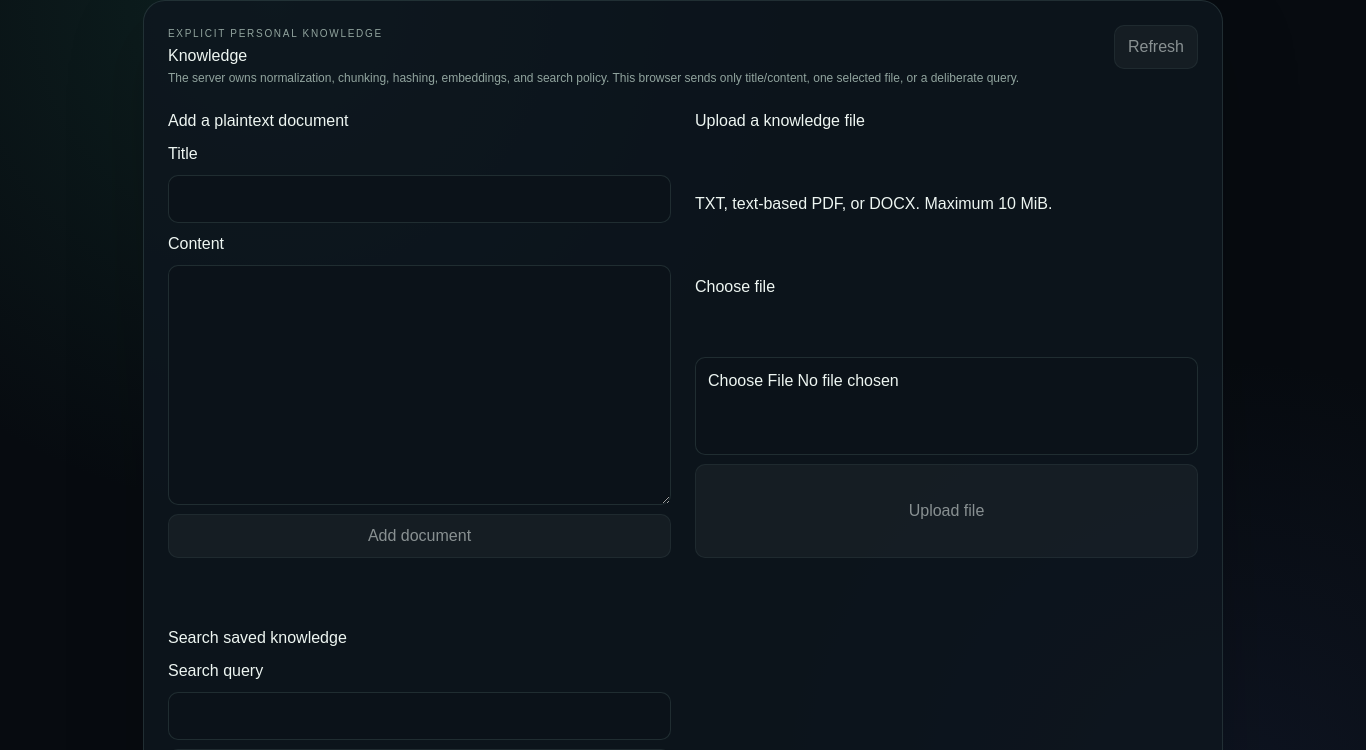
Test: KnowledgePanel › renders bounded semantic matches without provider internals
Type "authorization" into the field labelled "Search query". click: [420, 716]
box: [168, 692, 671, 740]
(page scrolled)
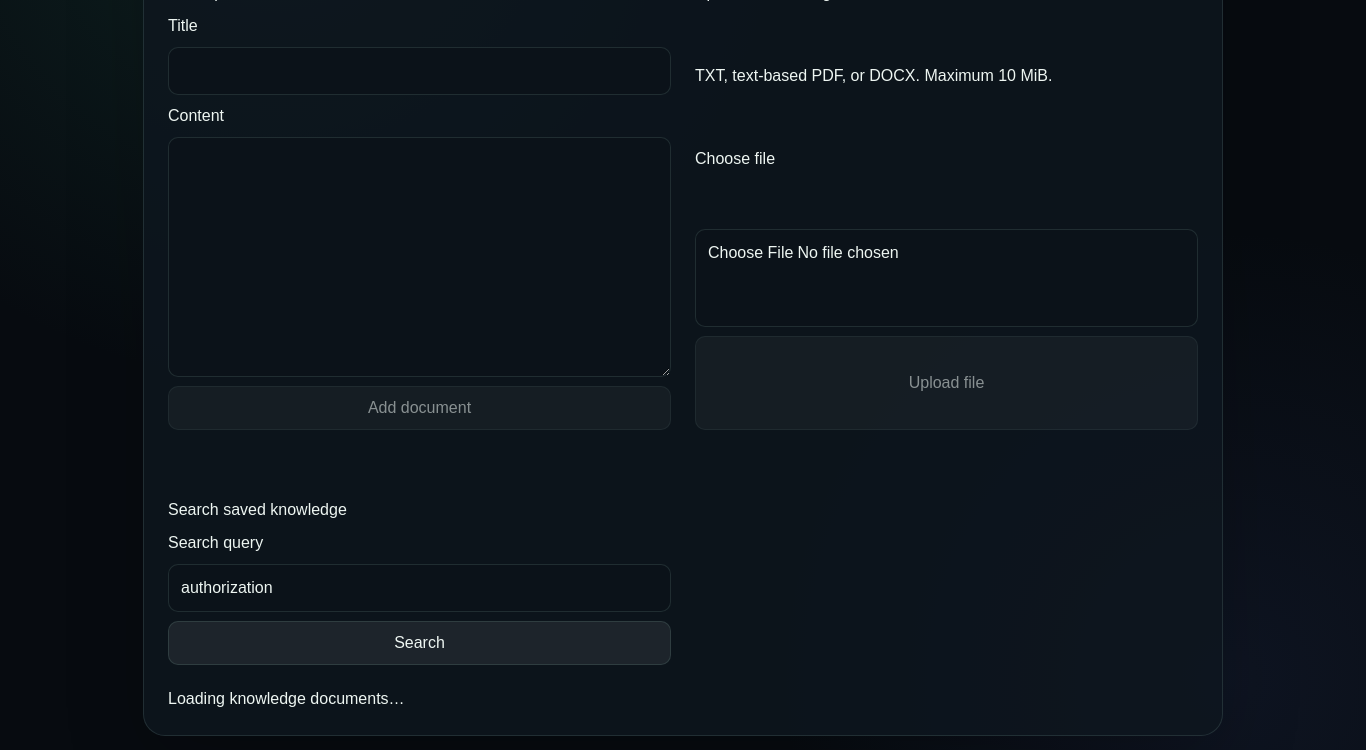
Click the button "Search". click: [420, 643]
box: [168, 621, 671, 665]
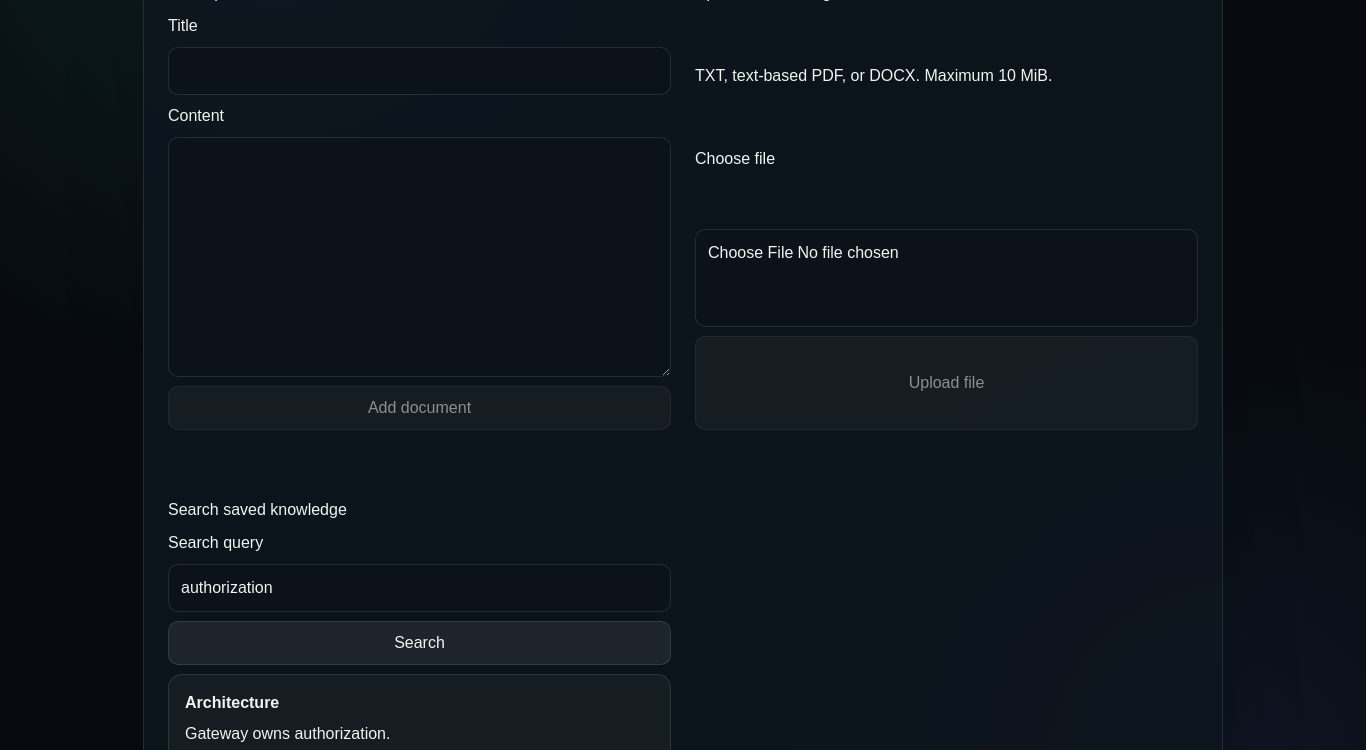
expect the text "Gateway owns authorization." is shown: met, box [185, 725, 390, 742]
